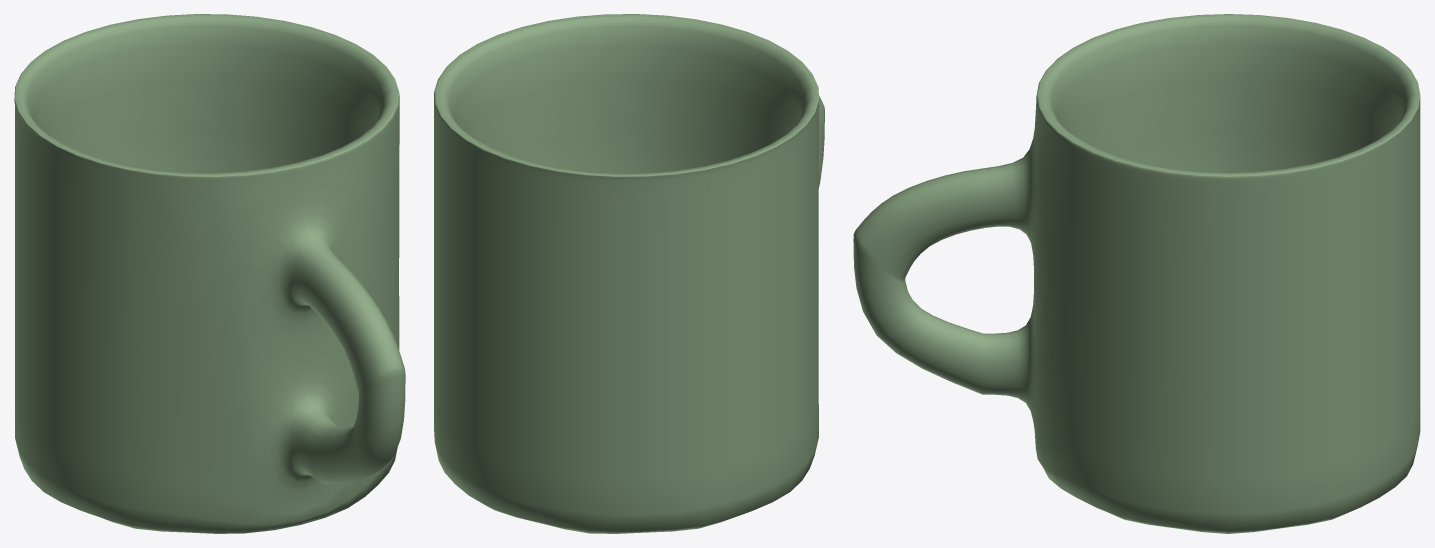
Rendered from mug.obj.
3 renders of one model, left to right at view 1: azimuth 30°, elevation 25°; view 2: azimuth 150°, elevation 25°; view 3: azimuth 270°, elevation 25°, orthographic.
Parts seen in each view (by area): view 1: pCylinder1; view 2: pCylinder1; view 3: pCylinder1.
Part boxes in pixels (bbox=[...]): pCylinder1: bbox=[14, 14, 405, 533]; pCylinder1: bbox=[434, 14, 824, 533]; pCylinder1: bbox=[853, 14, 1420, 533].
Bounding box in the file's own units: 5.65 × 5.99 × 8.33.
